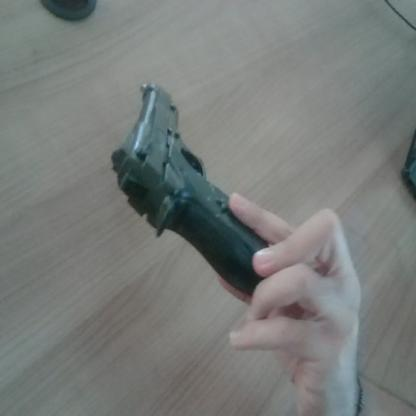handgun: (114, 60, 286, 318)
